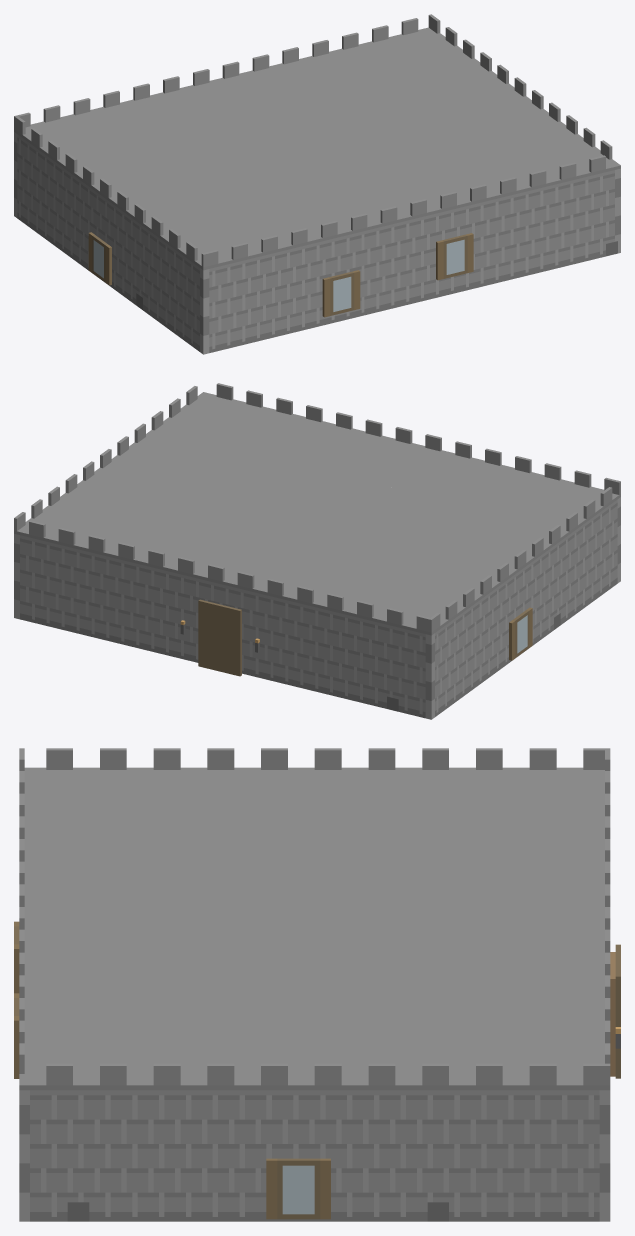
Rendered from arena_combate_03.glb.
3 renders of one model, top to bottom at view 1: azimuth 30°, elevation 25°; view 2: azimuth 150°, elevation 25°; view 3: azimuth 270°, elevation 25°, orthographic. The views are drawn at different scales.
Parts seen in each view (by area): view 1: arena_combate_03; view 2: arena_combate_03; view 3: arena_combate_03.
Boxes of the visible parts, left/top/right/bottom form: arena_combate_03: left=14, top=14, right=620, bottom=354; arena_combate_03: left=14, top=383, right=620, bottom=719; arena_combate_03: left=14, top=748, right=620, bottom=1221.
Size of the model in its own units: 14.2 by 3.2 by 11.3.
